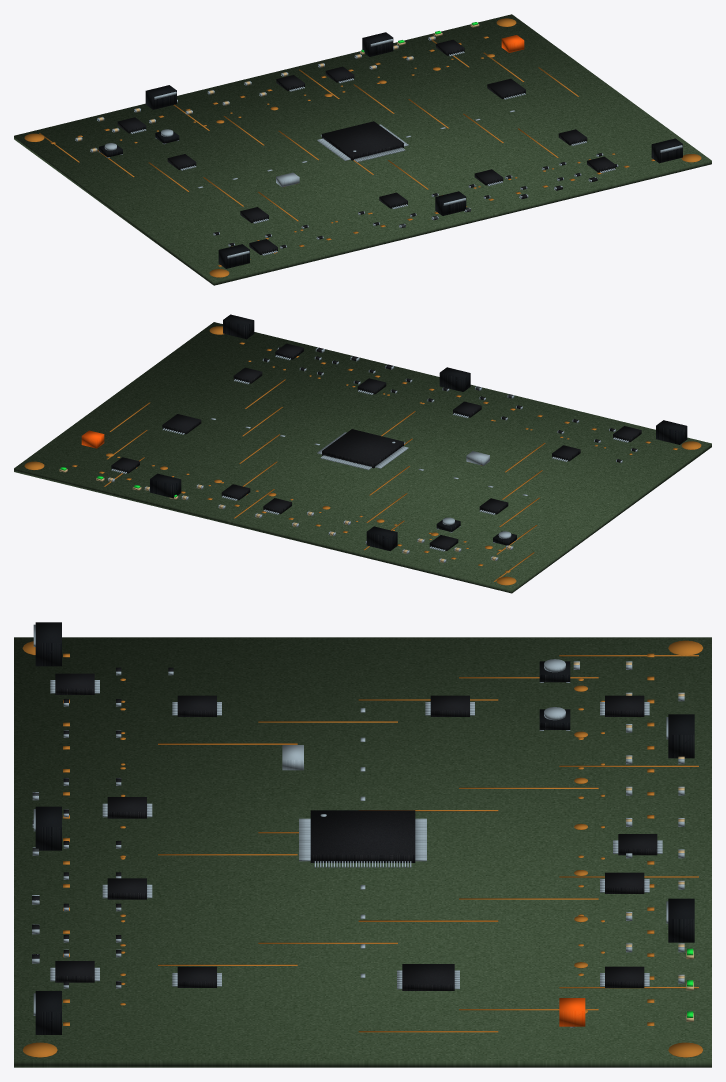
The model's file is L101_MLX9_Assembled_Reference.obj.
3 renders of one model, top to bottom at view 1: azimuth 30°, elevation 25°; view 2: azimuth 150°, elevation 25°; view 3: azimuth 270°, elevation 25°, orthographic. The views are drawn at different scales.
Parts seen in each view (by area): view 1: L101_PCB_FR4_Core_FR4_6Layer_Dielectric_582__PSMAT__FR4_Core, L101_U1_Molded_144Pin_QFP_Body_0__PSMAT__IC_Epoxy, L101_J1_Connector_Shell_491__PSMAT__Connector_Black, L101_J2_Connector_Shell_501__PSMAT__Connector_Black, L101_J5_Connector_Shell_531__PSMAT__Connector_Black, L101_J4_Connector_Shell_521__PSMAT__Connector_Black, L101_J3_Connector_Shell_511__PSMAT__Connector_Black, L101_U3_Epoxy_Package_163__PSMAT__IC_Epoxy; view 2: L101_PCB_FR4_Core_FR4_6Layer_Dielectric_582__PSMAT__FR4_Core, L101_U1_Molded_144Pin_QFP_Body_0__PSMAT__IC_Epoxy, L101_J1_Connector_Shell_491__PSMAT__Connector_Black, L101_J2_Connector_Shell_501__PSMAT__Connector_Black, L101_J5_Connector_Shell_531__PSMAT__Connector_Black, L101_J3_Connector_Shell_511__PSMAT__Connector_Black, L101_J4_Connector_Shell_521__PSMAT__Connector_Black, L101_U3_Epoxy_Package_163__PSMAT__IC_Epoxy; view 3: L101_PCB_FR4_Core_FR4_6Layer_Dielectric_582__PSMAT__FR4_Core, L101_U1_Molded_144Pin_QFP_Body_0__PSMAT__IC_Epoxy, L101_U3_Epoxy_Package_163__PSMAT__IC_Epoxy, L101_J4_Connector_Shell_521__PSMAT__Connector_Black, L101_J1_Connector_Shell_491__PSMAT__Connector_Black, L101_J3_Connector_Shell_511__PSMAT__Connector_Black, L101_J2_Connector_Shell_501__PSMAT__Connector_Black, L101_J5_Connector_Shell_531__PSMAT__Connector_Black, L101_U13_Epoxy_Package_337__PSMAT__IC_Epoxy, L101_U10_Epoxy_Package_286__PSMAT__IC_Epoxy, L101_U9_Epoxy_Package_269__PSMAT__IC_Epoxy, L101_U8_Epoxy_Package_252__PSMAT__IC_Epoxy (+8 smaller).
Boxes of the visible parts, bbox=[...] form: L101_PCB_FR4_Core_FR4_6Layer_Dielectric_582__PSMAT__FR4_Core: bbox=[14, 14, 711, 285]; L101_U1_Molded_144Pin_QFP_Body_0__PSMAT__IC_Epoxy: bbox=[322, 121, 403, 160]; L101_J1_Connector_Shell_491__PSMAT__Connector_Black: bbox=[218, 244, 249, 268]; L101_J2_Connector_Shell_501__PSMAT__Connector_Black: bbox=[145, 85, 176, 109]; L101_J5_Connector_Shell_531__PSMAT__Connector_Black: bbox=[651, 138, 682, 163]; L101_J4_Connector_Shell_521__PSMAT__Connector_Black: bbox=[362, 32, 393, 56]; L101_J3_Connector_Shell_511__PSMAT__Connector_Black: bbox=[435, 191, 466, 215]; L101_U3_Epoxy_Package_163__PSMAT__IC_Epoxy: bbox=[487, 78, 525, 99]; L101_PCB_FR4_Core_FR4_6Layer_Dielectric_582__PSMAT__FR4_Core: bbox=[14, 322, 711, 593]; L101_U1_Molded_144Pin_QFP_Body_0__PSMAT__IC_Epoxy: bbox=[322, 429, 403, 468]; L101_J1_Connector_Shell_491__PSMAT__Connector_Black: bbox=[656, 420, 687, 444]; L101_J2_Connector_Shell_501__PSMAT__Connector_Black: bbox=[366, 526, 397, 550]; L101_J5_Connector_Shell_531__PSMAT__Connector_Black: bbox=[223, 314, 254, 339]; L101_J3_Connector_Shell_511__PSMAT__Connector_Black: bbox=[439, 367, 470, 391]; L101_J4_Connector_Shell_521__PSMAT__Connector_Black: bbox=[150, 473, 181, 498]; L101_U3_Epoxy_Package_163__PSMAT__IC_Epoxy: bbox=[162, 414, 201, 434]; L101_PCB_FR4_Core_FR4_6Layer_Dielectric_582__PSMAT__FR4_Core: bbox=[14, 637, 711, 1067]; L101_U1_Molded_144Pin_QFP_Body_0__PSMAT__IC_Epoxy: bbox=[310, 810, 415, 862]; L101_U3_Epoxy_Package_163__PSMAT__IC_Epoxy: bbox=[402, 964, 454, 990]; L101_J4_Connector_Shell_521__PSMAT__Connector_Black: bbox=[668, 898, 694, 942]; L101_J1_Connector_Shell_491__PSMAT__Connector_Black: bbox=[35, 622, 61, 666]; L101_J3_Connector_Shell_511__PSMAT__Connector_Black: bbox=[35, 806, 61, 850]; L101_J2_Connector_Shell_501__PSMAT__Connector_Black: bbox=[668, 714, 694, 758]; L101_J5_Connector_Shell_531__PSMAT__Connector_Black: bbox=[35, 991, 61, 1034]; L101_U13_Epoxy_Package_337__PSMAT__IC_Epoxy: bbox=[55, 673, 94, 694]; L101_U10_Epoxy_Package_286__PSMAT__IC_Epoxy: bbox=[107, 797, 146, 818]; L101_U9_Epoxy_Package_269__PSMAT__IC_Epoxy: bbox=[107, 878, 146, 899]; L101_U8_Epoxy_Package_252__PSMAT__IC_Epoxy: bbox=[605, 872, 644, 893].
Size of the model in its own units: 0.23 by 0.0095 by 0.16.
9 materials, 9 textured.
